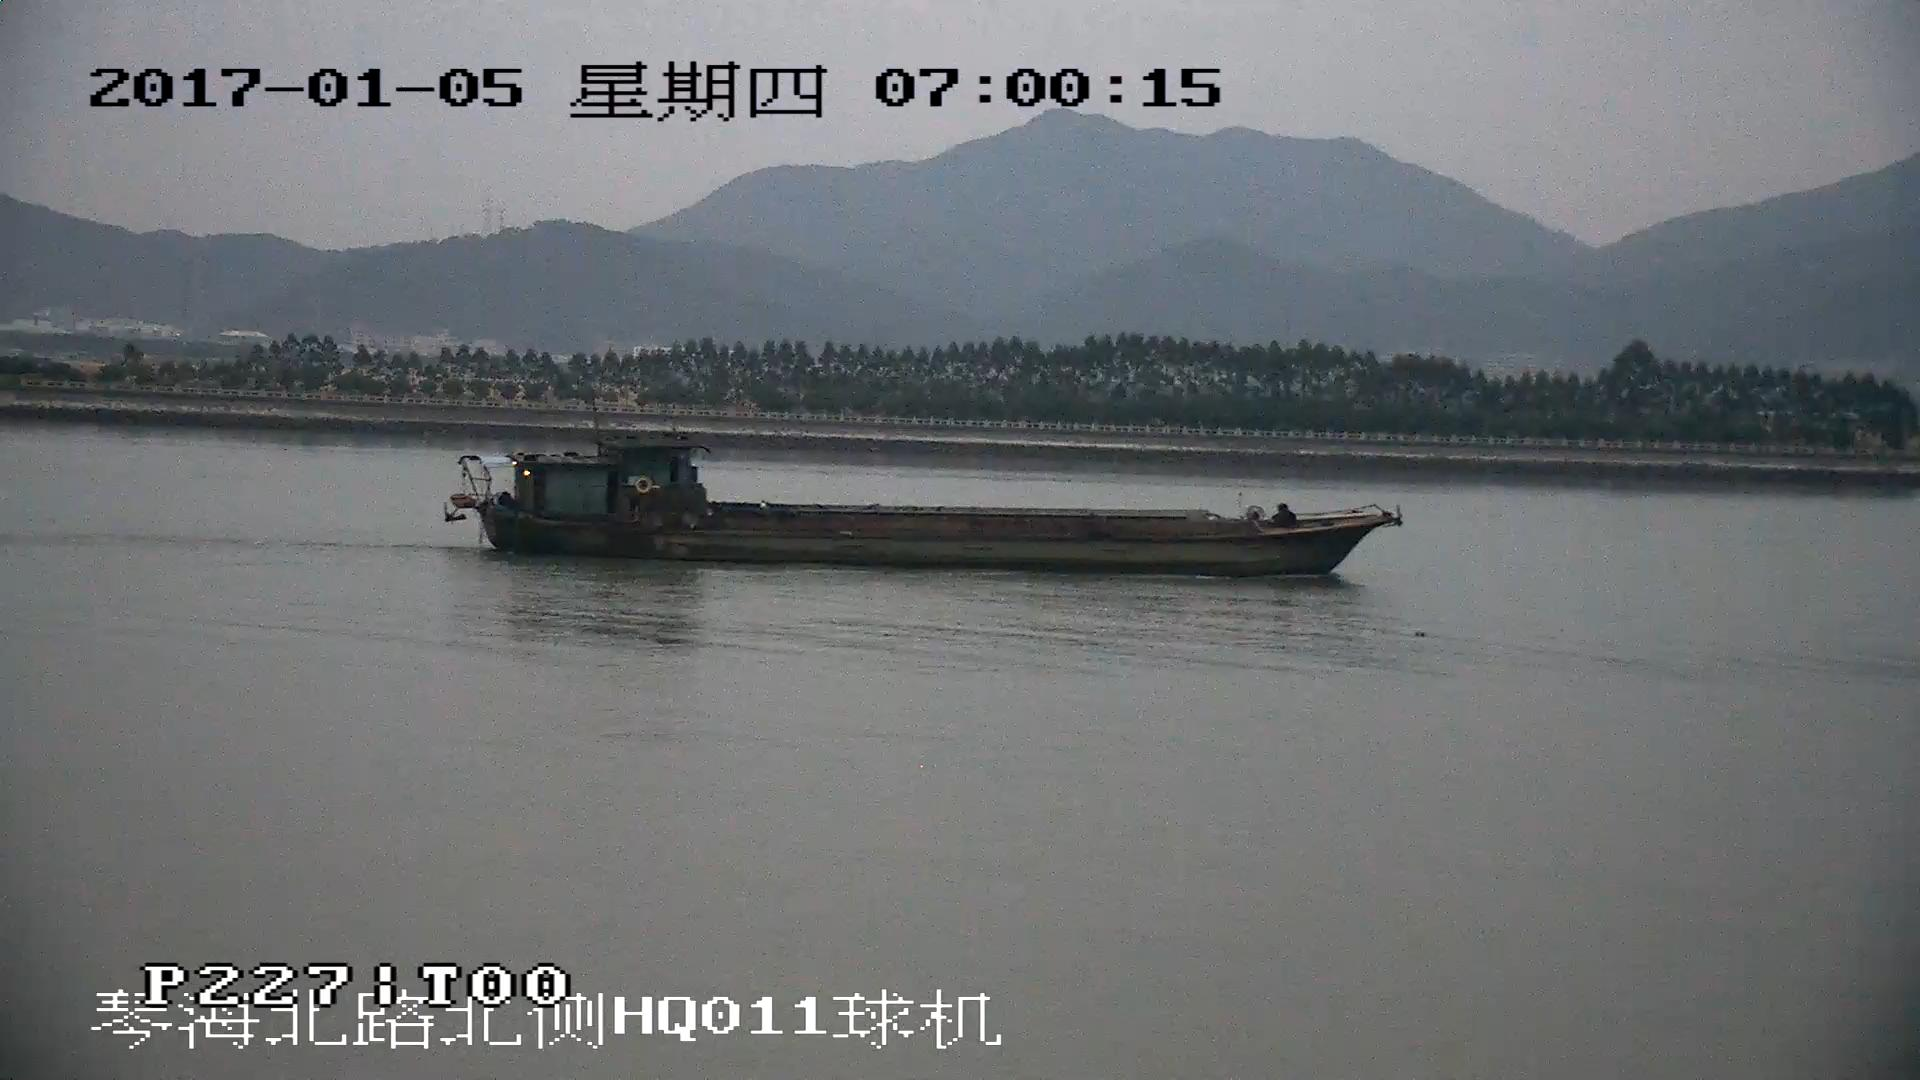bulk cargo carrier: (443, 442, 1407, 574)
